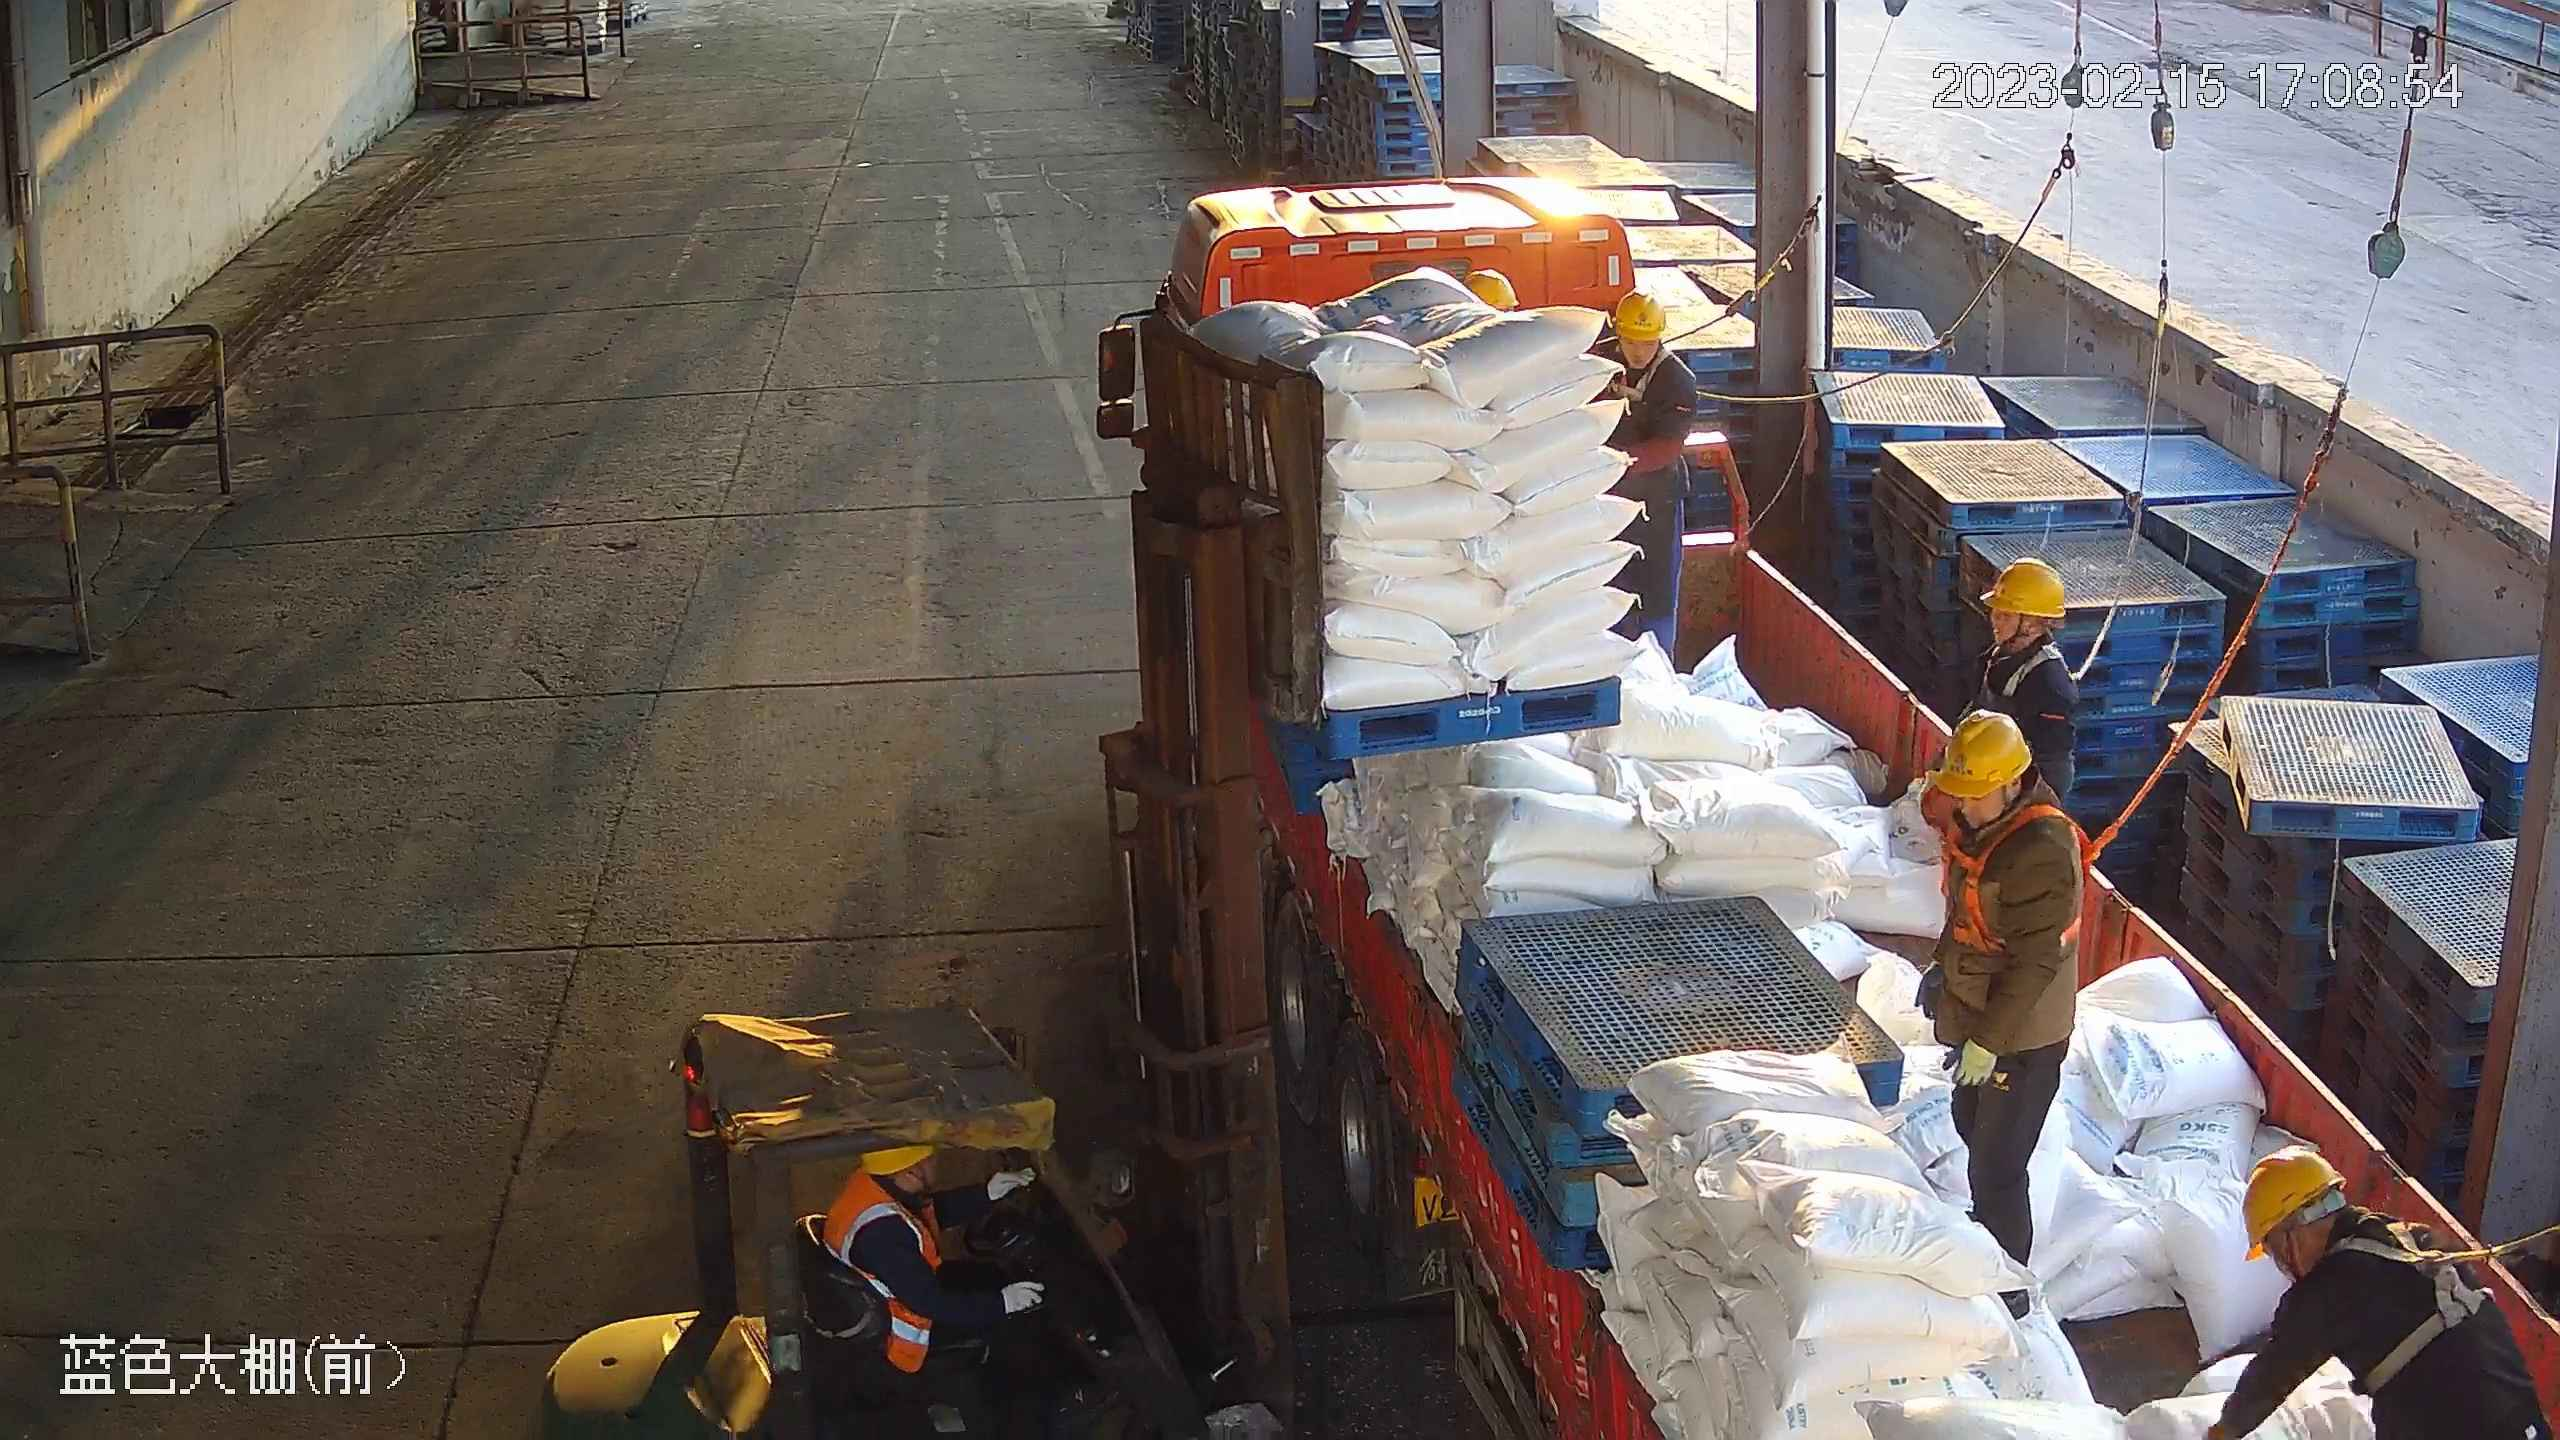belt: (2342, 1227, 2486, 1399), (1938, 803, 2092, 947), (1977, 636, 2068, 703), (1616, 332, 1699, 399)
head: (2227, 1151, 2423, 1312), (1918, 710, 2081, 899), (1955, 554, 2077, 710), (1599, 293, 1703, 417)
helmet: (2239, 1141, 2340, 1253), (1922, 712, 2038, 801), (1983, 558, 2077, 629), (1616, 288, 1673, 340)
people: (1918, 706, 2090, 1329), (816, 1134, 1059, 1395), (1593, 283, 1710, 665)
truck: (1109, 175, 2560, 1440)
